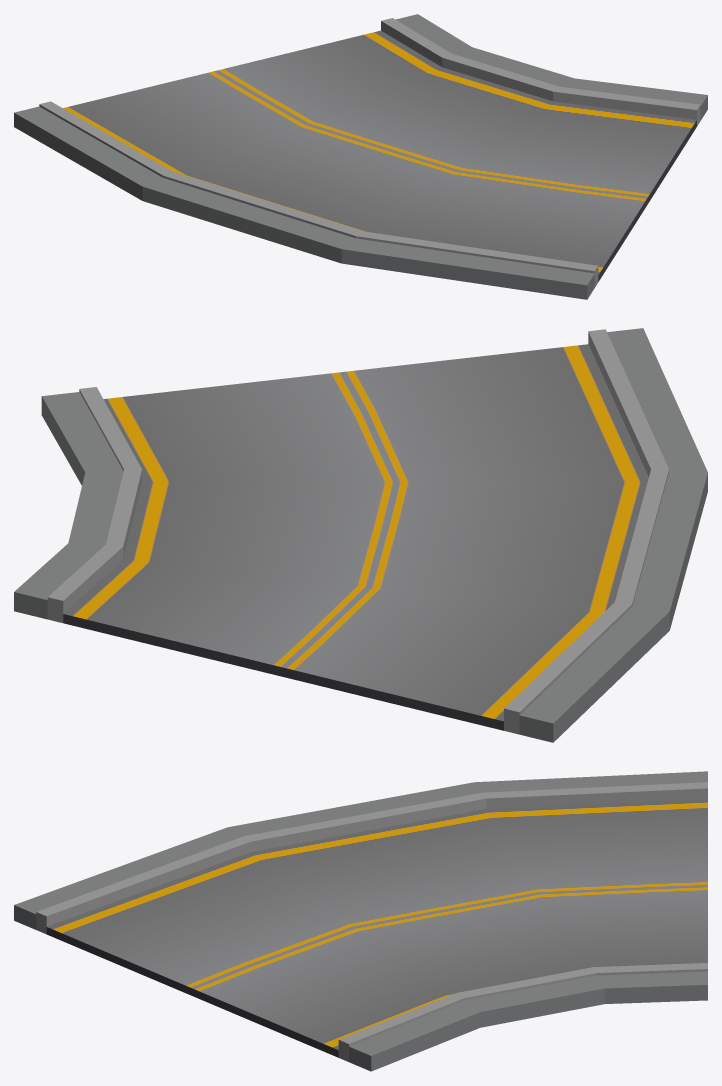
The model's file is Road1_Curve1.dae.
The picture shows the model from 3 angles, top to bottom: view 1: azimuth 30°, elevation 25°; view 2: azimuth 150°, elevation 25°; view 3: azimuth 270°, elevation 25°; orthographic projection. The views are drawn at different scales.
Parts seen in each view (by area): view 1: Road1_Curve1; view 2: Road1_Curve1; view 3: Road1_Curve1.
Boxes of the visible parts, x1,y1,x2,y2 form: Road1_Curve1: (14,14,707,299); Road1_Curve1: (14,328,707,742); Road1_Curve1: (14,771,707,1071).
Size of the model in its own units: 16 by 16.49 by 0.4753.
Materials: 1 (1 with a texture image).
